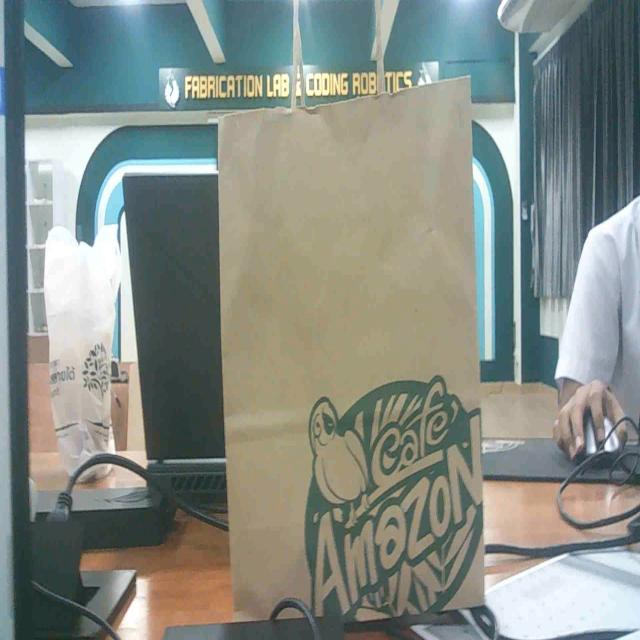bag: (205, 56, 502, 640)
